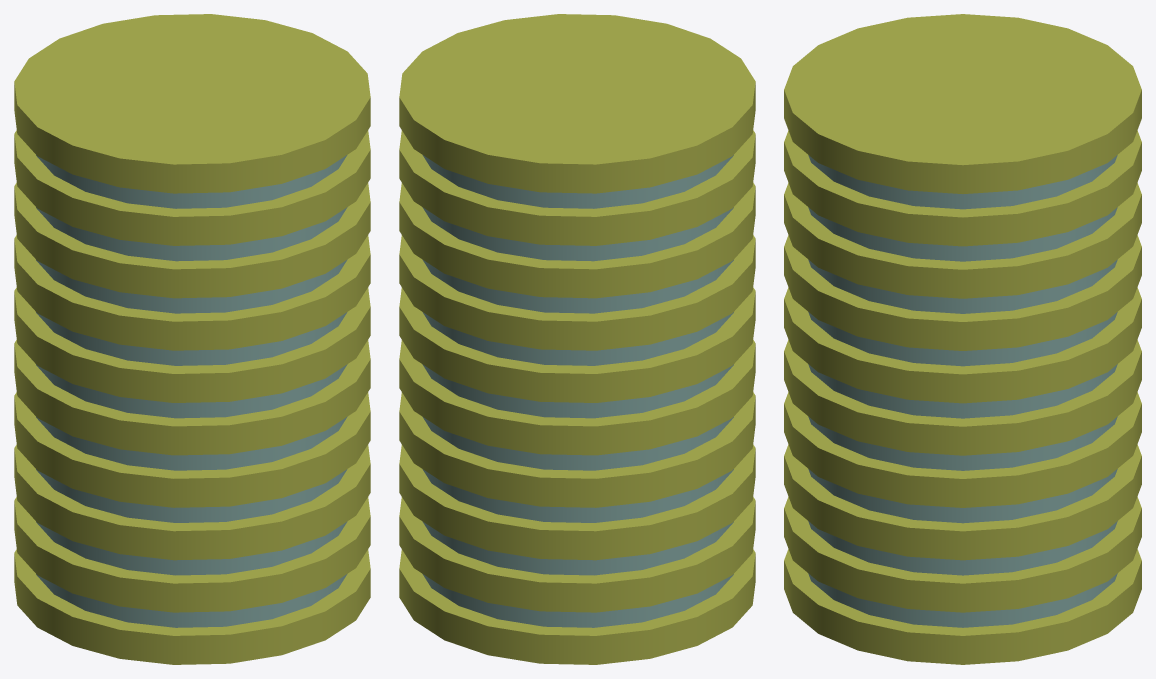
File: Building_2.fbx
The picture shows the model from 3 angles, left to right: view 1: azimuth 30°, elevation 25°; view 2: azimuth 150°, elevation 25°; view 3: azimuth 270°, elevation 25°; orthographic projection.
Visible parts, largest first — view 1: pCylinder9; view 2: pCylinder9; view 3: pCylinder9.
Part boxes in pixels (left/top/right/bottom): pCylinder9: left=14, top=14, right=370, bottom=664; pCylinder9: left=399, top=14, right=755, bottom=664; pCylinder9: left=784, top=14, right=1141, bottom=664.
Size of the model in its own units: 2.63 by 4.05 by 2.63.
